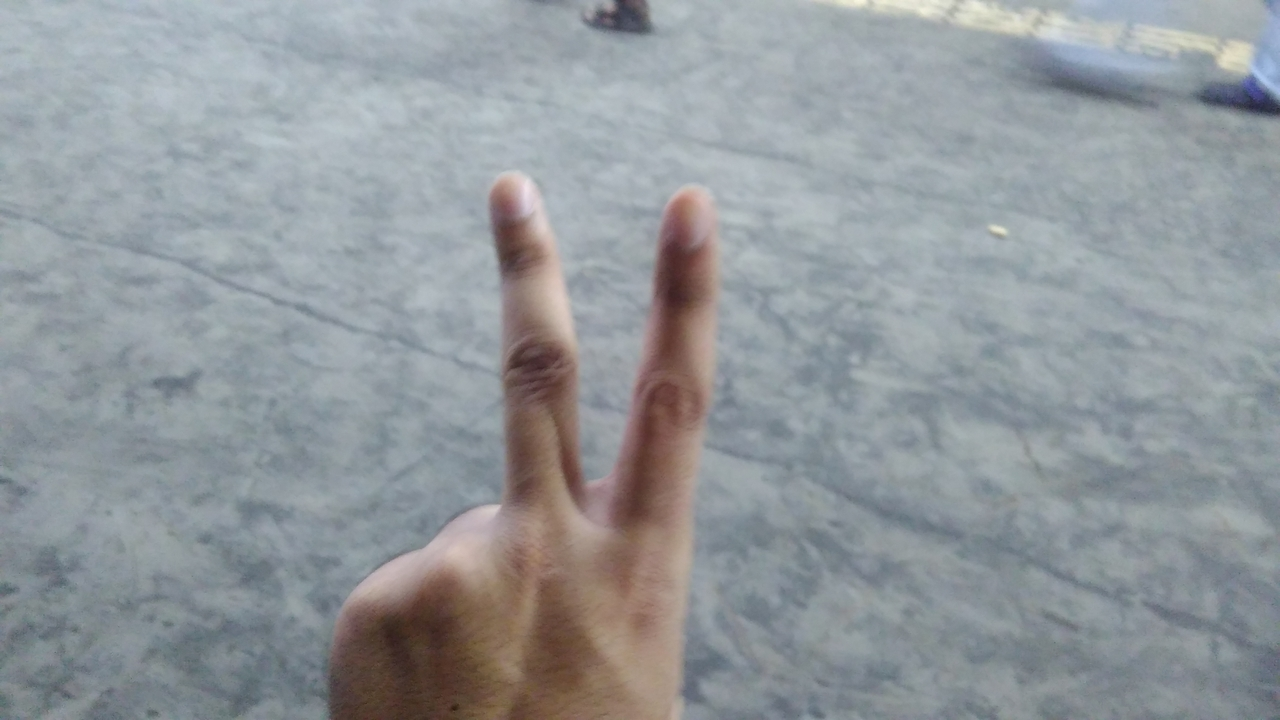fingertip: (652, 176, 722, 250), (480, 162, 550, 232)
